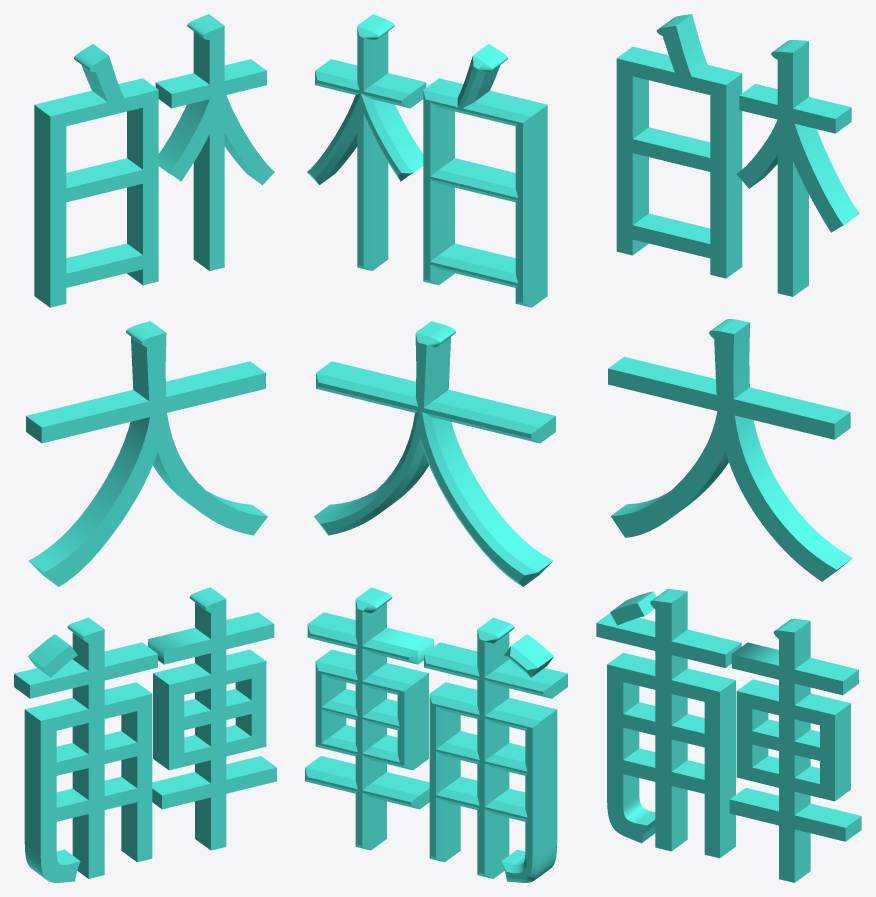
File: Kanji.FBX
3 views of the same model, side by side, from view 1: azimuth 30°, elevation 25°; view 2: azimuth 150°, elevation 25°; view 3: azimuth 330°, elevation 25° (orthographic).
Visible parts, largest first — view 1: Kanji; view 2: Kanji; view 3: Kanji.
Part boxes in pixels (box(x1,y1,x2,y2)): Kanji: box(14, 14, 276, 882); Kanji: box(305, 14, 567, 882); Kanji: box(596, 14, 861, 882).
Size of the model in its own units: 2.87 by 0.3849 by 9.11.
Materials: 1 (1 with a texture image).
